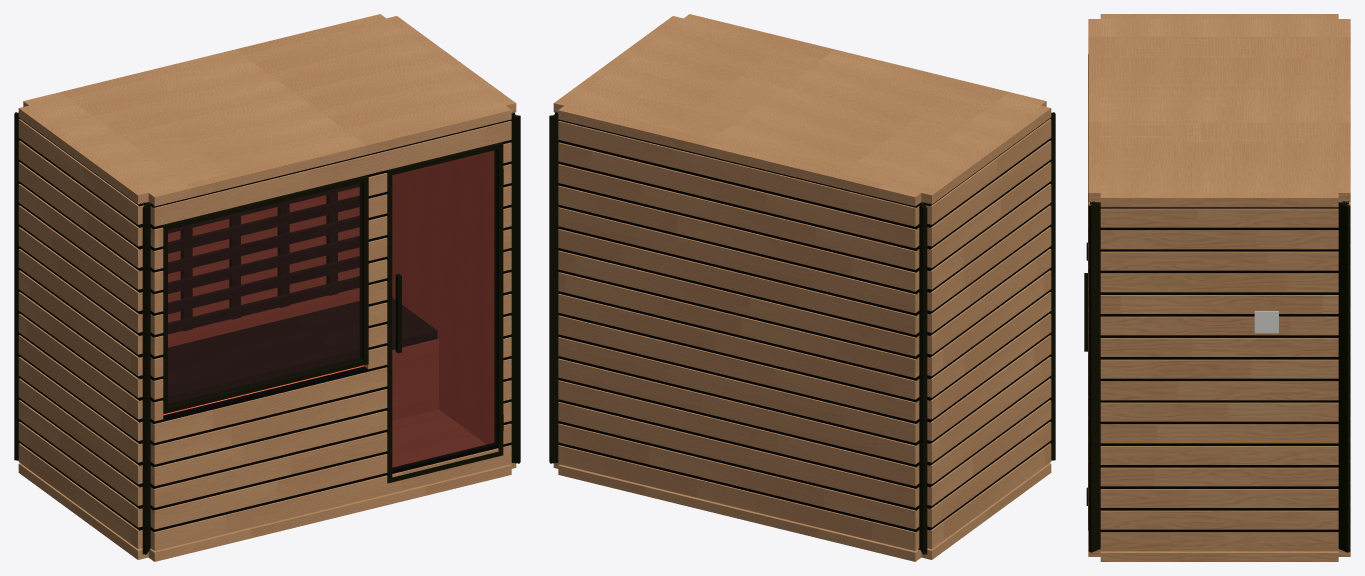
The model's file is nyssa-4.glb.
3 views of the same model, side by side, from view 1: azimuth 30°, elevation 25°; view 2: azimuth 150°, elevation 25°; view 3: azimuth 270°, elevation 25° (orthographic).
Visible parts, largest first — view 1: cedar, tint, cedar_in, cedar_dark, black, reveal; view 2: cedar, reveal, black; view 3: cedar, reveal, black, white.
Part boxes in pixels (<box>): cedar: <box>18,14,516,561</box>; tint: <box>168,150,496,469</box>; cedar_in: <box>163,151,493,466</box>; cedar_dark: <box>168,183,437,403</box>; black: <box>14,112,520,554</box>; reveal: <box>20,112,514,531</box>; cedar: <box>553,14,1051,561</box>; reveal: <box>555,112,1049,549</box>; black: <box>549,112,1055,554</box>; cedar: <box>1088,14,1350,561</box>; reveal: <box>1090,201,1348,532</box>; black: <box>1084,54,1350,552</box>; white: <box>1254,311,1278,333</box>.
Size of the model in its own units: 2.16 by 1.99 by 1.32.
Materials: 8 (3 with a texture image).
